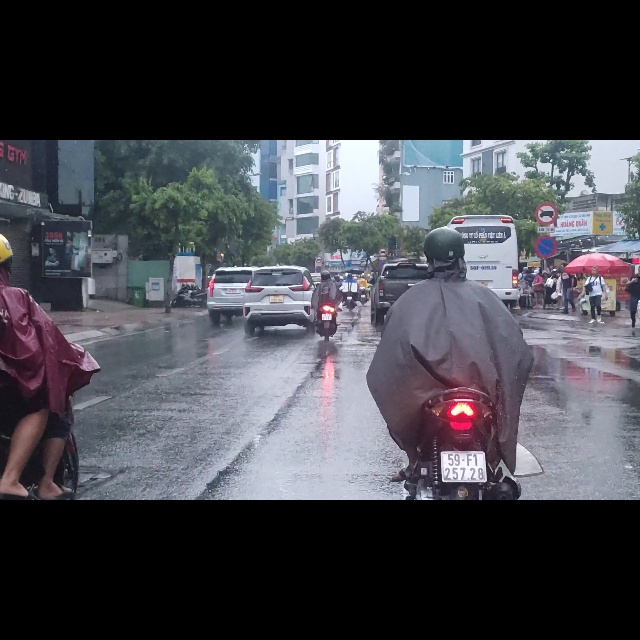bien_cam: (534, 165, 558, 210), (535, 110, 559, 153), (378, 191, 388, 207)
